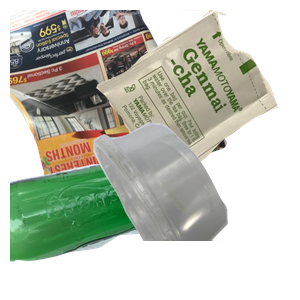glass: (10, 149, 203, 300)
paper: (10, 10, 230, 188)
plastic: (91, 120, 300, 300)
trash: (91, 10, 300, 186)
